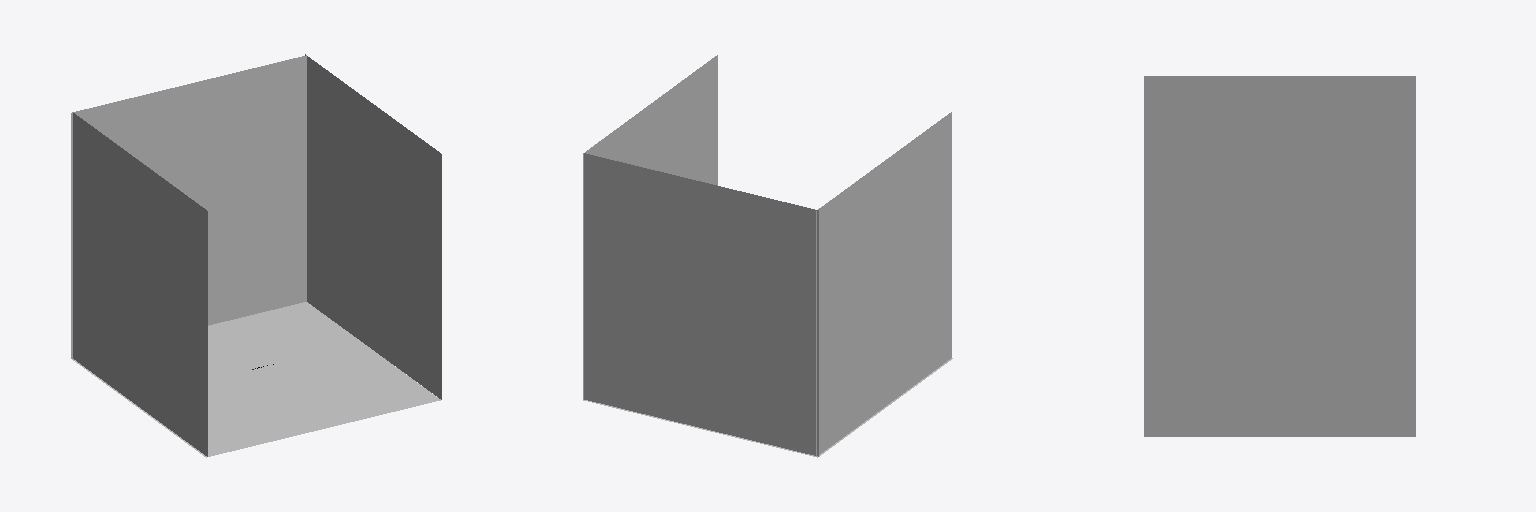
The model's file is weapons.obj.
3 views of the same model, side by side, from view 1: azimuth 30°, elevation 25°; view 2: azimuth 150°, elevation 25°; view 3: azimuth 270°, elevation 25° (orthographic).
Visible parts, largest first — view 1: Plane.002_Plane.003, Plane.003_Plane.004, Plane.001_Plane.002, Plane; view 2: Plane.002_Plane.003, Plane.001_Plane.002, Plane.003_Plane.004; view 3: Plane.003_Plane.004, Plane.001_Plane.002.
Part boxes in pixels (bbox=[...]): Plane.002_Plane.003: bbox=[71, 55, 306, 358]; Plane.003_Plane.004: bbox=[305, 54, 441, 399]; Plane.001_Plane.002: bbox=[73, 113, 207, 456]; Plane: bbox=[72, 302, 440, 457]; Plane.002_Plane.003: bbox=[584, 153, 818, 456]; Plane.001_Plane.002: bbox=[816, 112, 951, 456]; Plane.003_Plane.004: bbox=[583, 55, 717, 399]; Plane.003_Plane.004: bbox=[1144, 190, 1415, 436]; Plane.001_Plane.002: bbox=[1144, 76, 1415, 189].
Bounding box in the file's own units: 60.05 × 60 × 60.